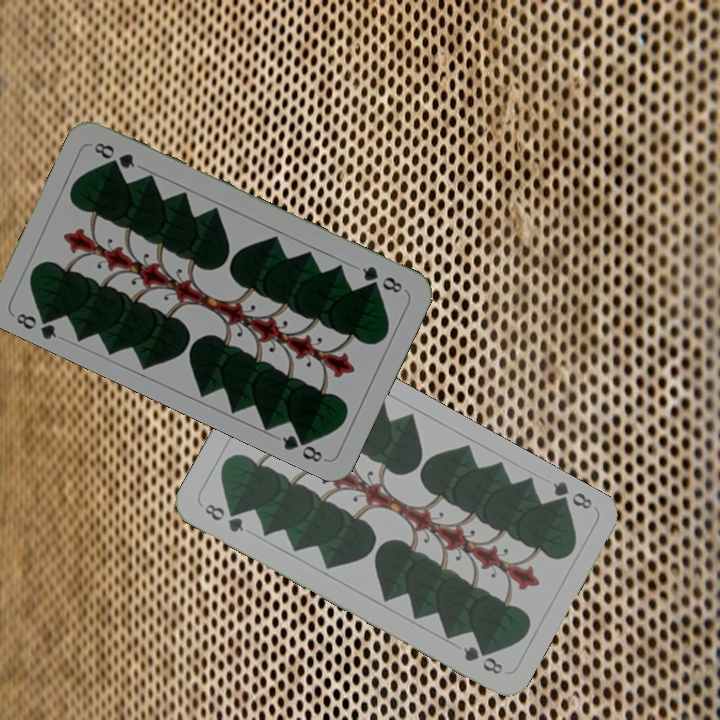G8: (200, 499, 247, 535), (548, 477, 595, 513), (12, 307, 60, 342), (358, 262, 405, 296)
